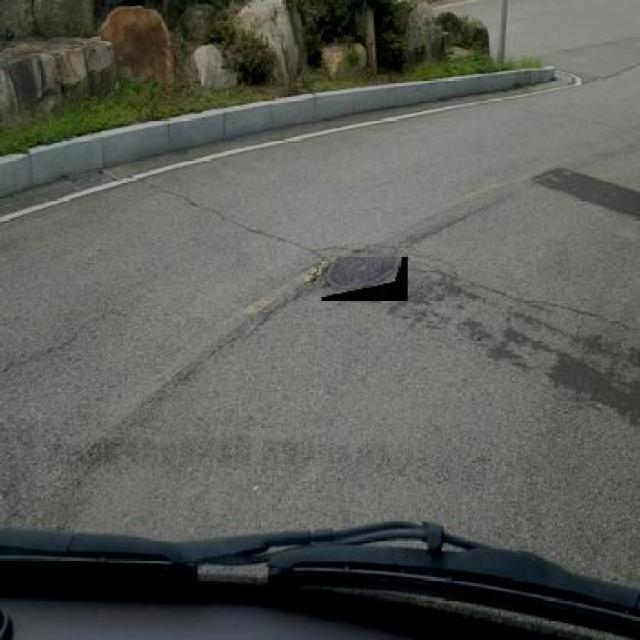Manhole: (322, 258, 408, 300)
Pothole: (414, 268, 454, 332)
